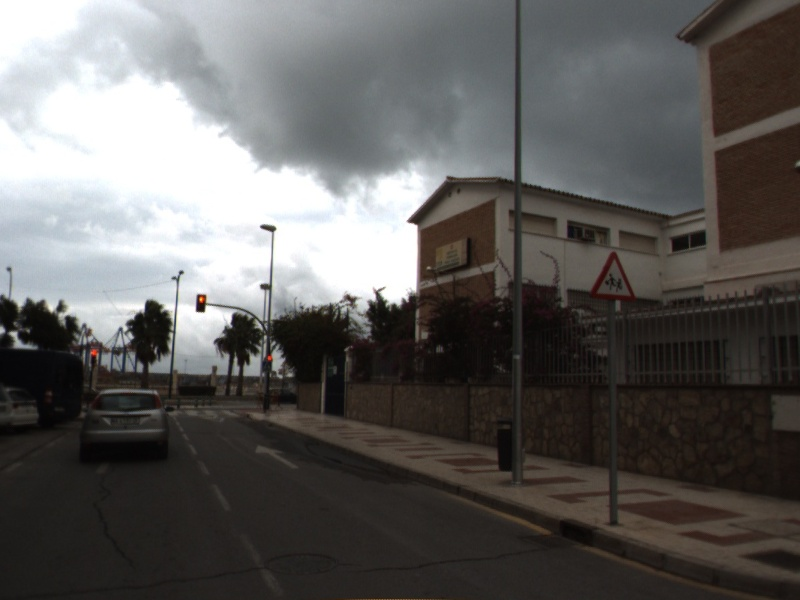STRAIGHT: (254, 443, 302, 471)
